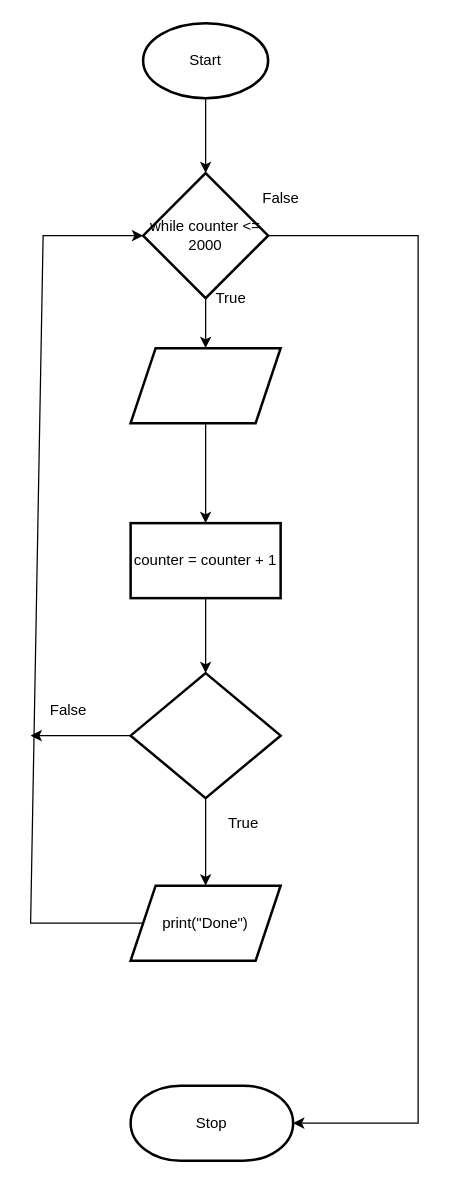
This 450x1183 diagram has some shape labels left out. Each missing label, with the centre of its shape:
if counter % 5 == 0:: (205,735)
print(counter, " ", end=""): (205,385)
